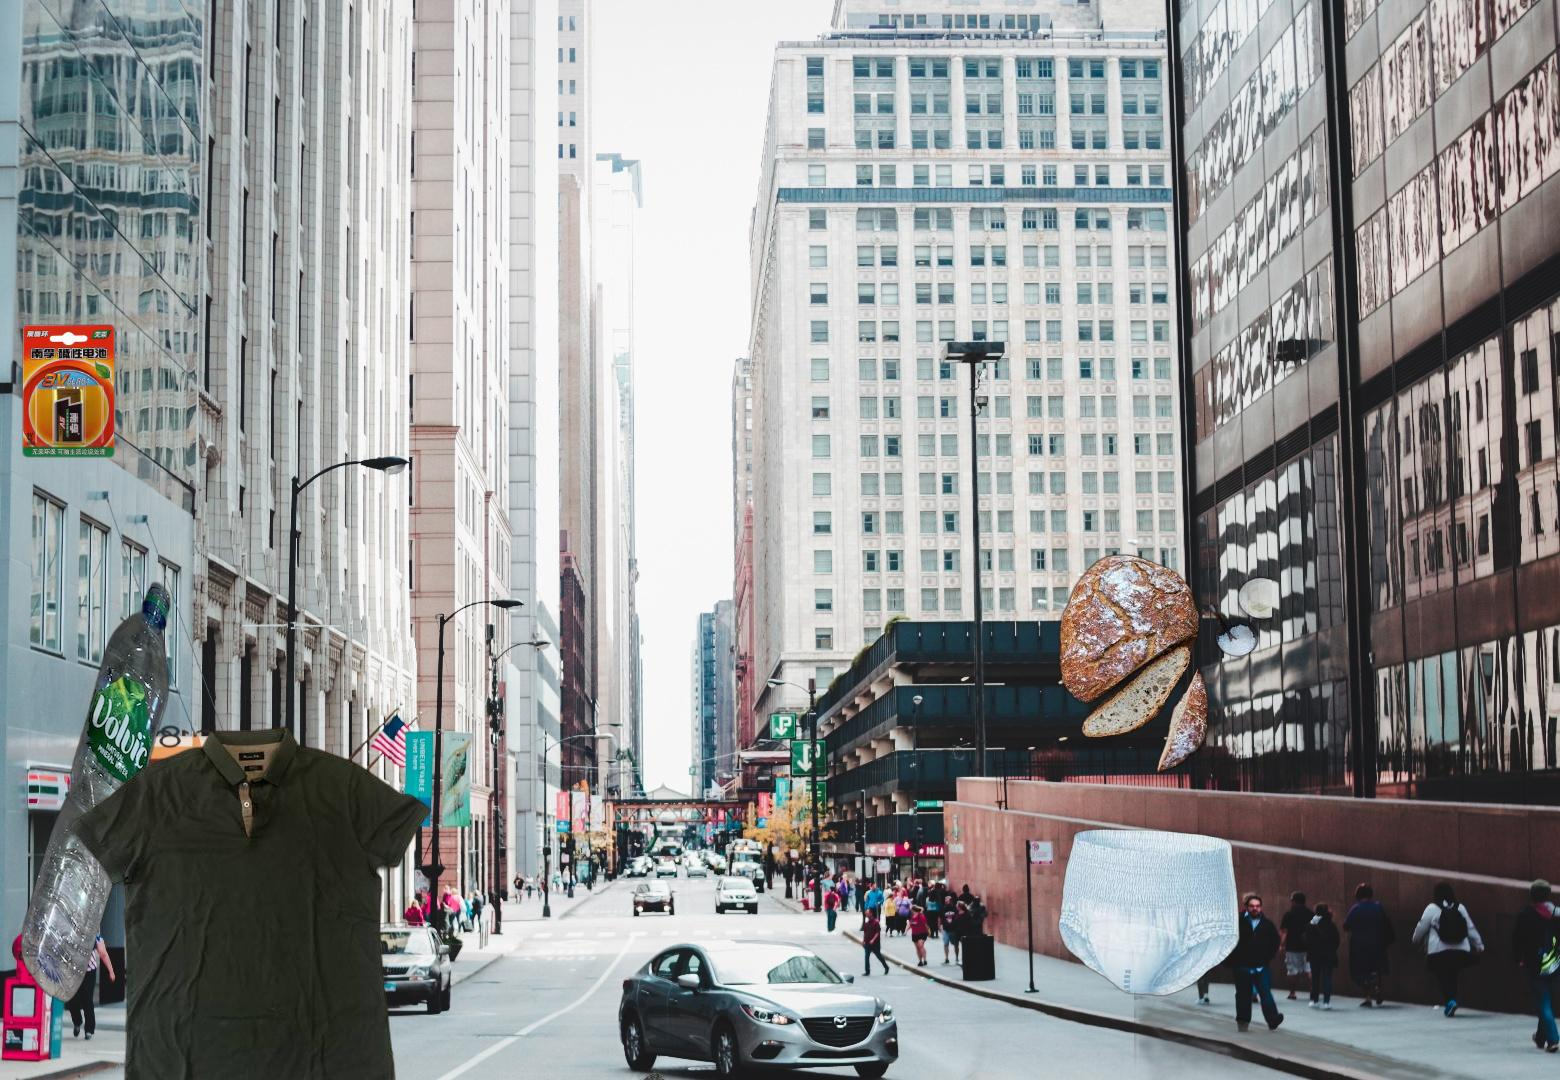battery: (20, 322, 119, 460)
biological: (1055, 552, 1272, 777)
clothes: (58, 722, 436, 1080)
plastic-bottles: (17, 579, 174, 1006)
shoes: (551, 1071, 721, 1080)
trash: (1055, 826, 1243, 999)
trashbox-cardboard: (947, 809, 1459, 1080), (1134, 931, 1560, 1080)
